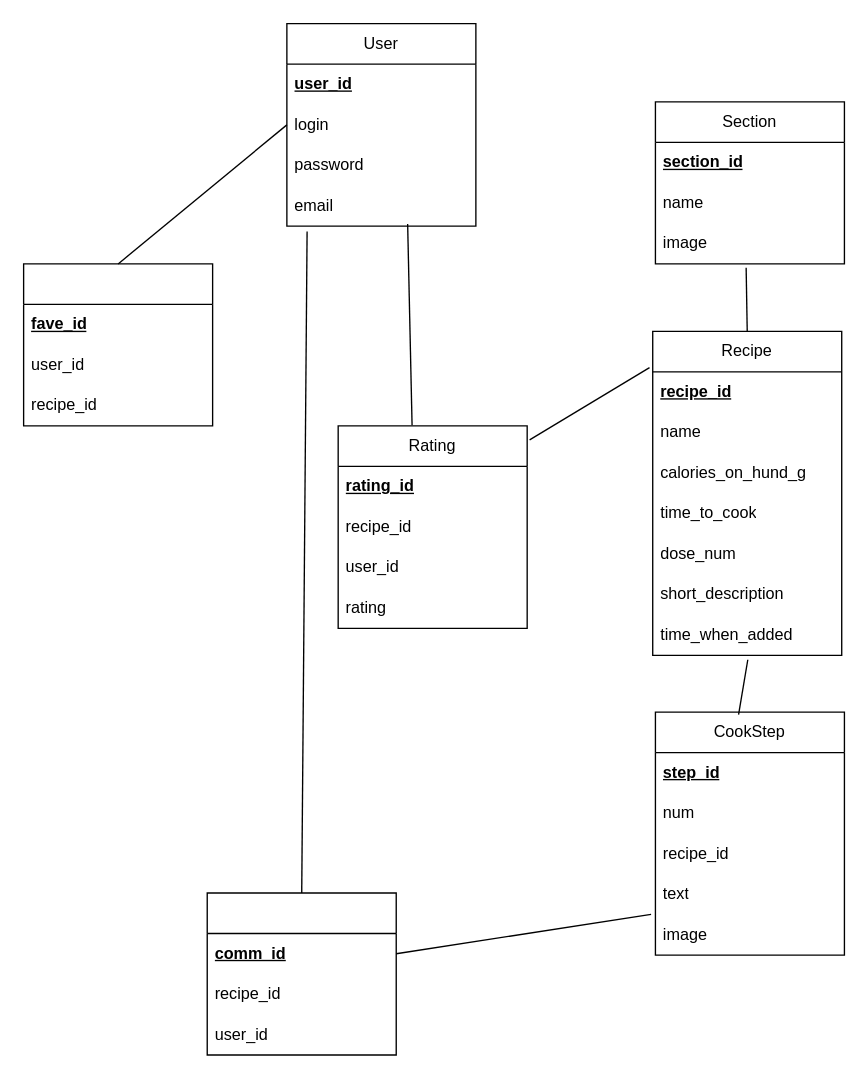
This 868x1079 diagram has some shape labels left out. The box of each missing label's shape, as (x1, y1, x2, y2) in pixels:
Commentary: (206, 892, 396, 1055)
Favourity: (22, 263, 213, 426)
